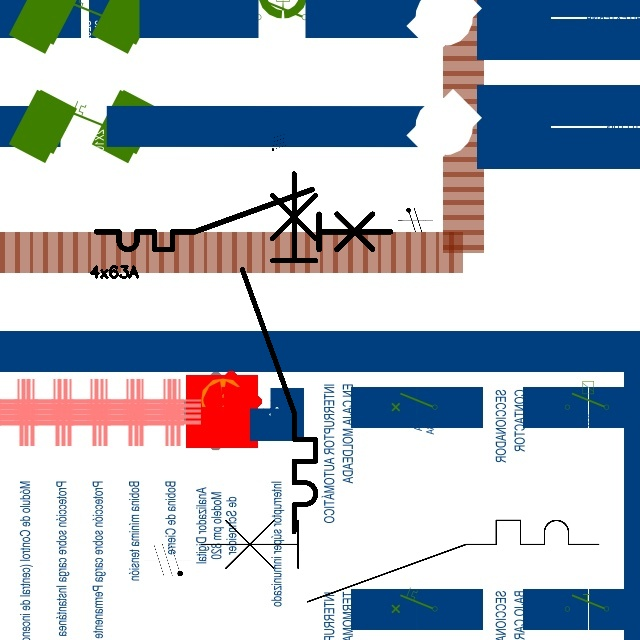interruptor_termomagnetico: (191, 510, 609, 612), (233, 164, 325, 540), (89, 182, 398, 257)
